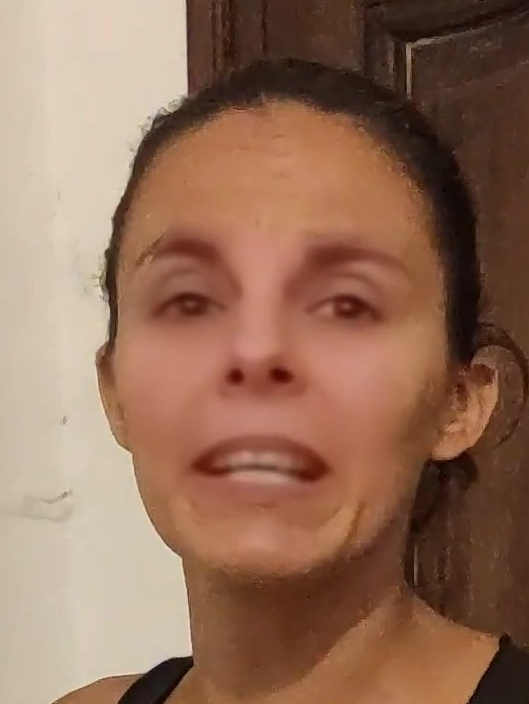eb_f: (127, 223, 415, 336)
